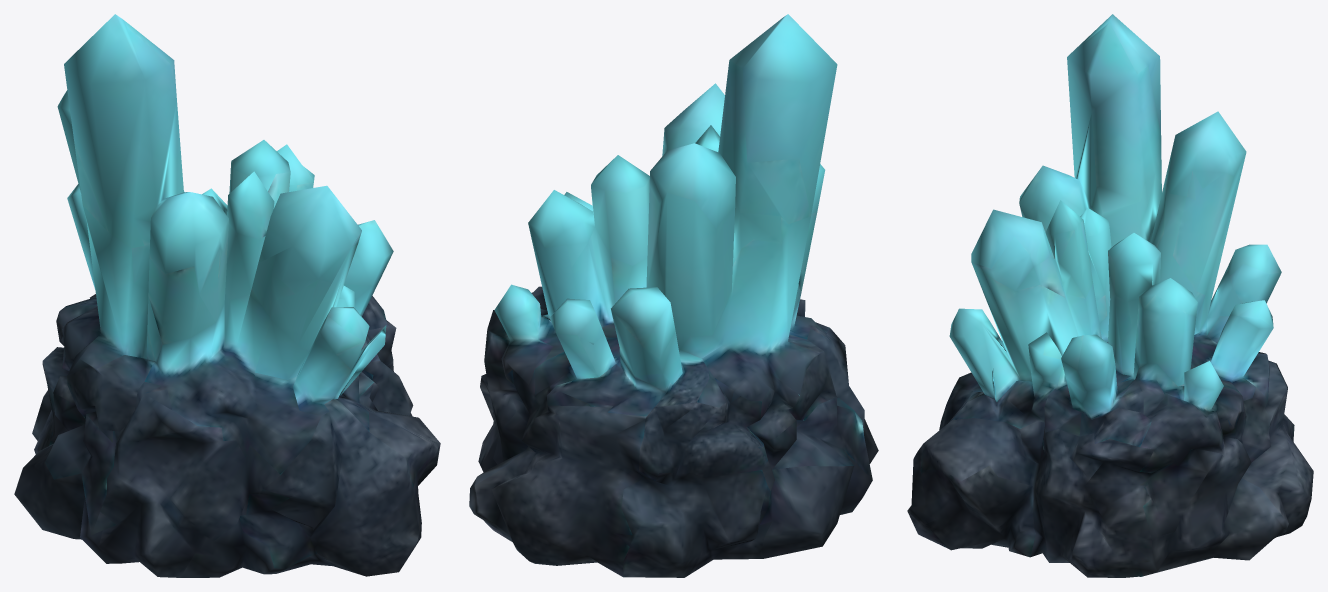
Rendered from spirit_crystal.lod1.glb.
The picture shows the model from 3 angles, left to right: view 1: azimuth 30°, elevation 25°; view 2: azimuth 150°, elevation 25°; view 3: azimuth 270°, elevation 25°; orthographic projection. The views are drawn at different scales.
Visible parts, largest first — view 1: tripo_node_8ca4e025-7414-4542-a5d5-9c33b64f643c; view 2: tripo_node_8ca4e025-7414-4542-a5d5-9c33b64f643c; view 3: tripo_node_8ca4e025-7414-4542-a5d5-9c33b64f643c.
Part boxes in pixels (x1,y1,x2,y2): tripo_node_8ca4e025-7414-4542-a5d5-9c33b64f643c: (14, 14, 440, 577); tripo_node_8ca4e025-7414-4542-a5d5-9c33b64f643c: (469, 14, 878, 577); tripo_node_8ca4e025-7414-4542-a5d5-9c33b64f643c: (907, 14, 1313, 577).
Size of the model in its own units: 0.7082 by 0.9964 by 0.8087.
Materials: 1 (1 with a texture image).
